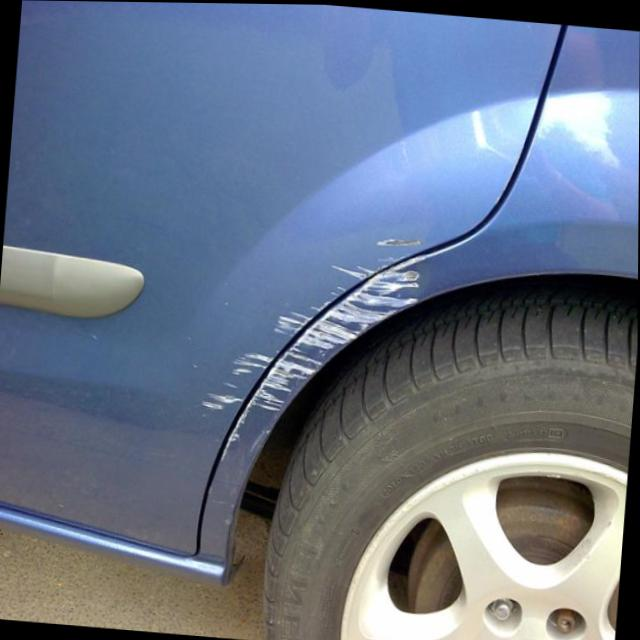Scratch: (228, 216, 431, 436)
